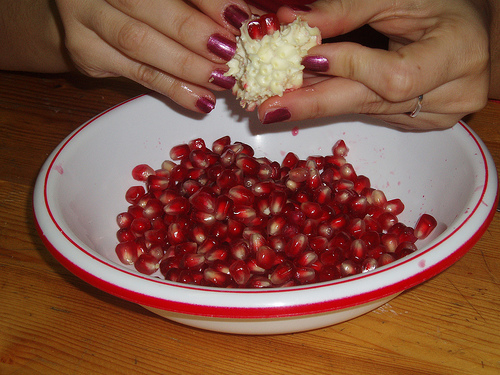pomogranate: (113, 129, 446, 291)
